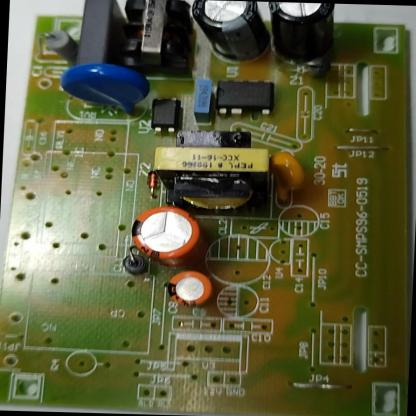Cap1: (127, 202, 202, 268)
Cap2: (163, 268, 215, 312)
Cap3: (186, 0, 270, 64)
Cap4: (260, 2, 336, 63)
MOSFET: (212, 76, 278, 118)
Mov: (51, 62, 153, 119)
Resistor: (38, 24, 81, 63)
Transformer: (148, 126, 277, 216), (110, 0, 196, 78)
